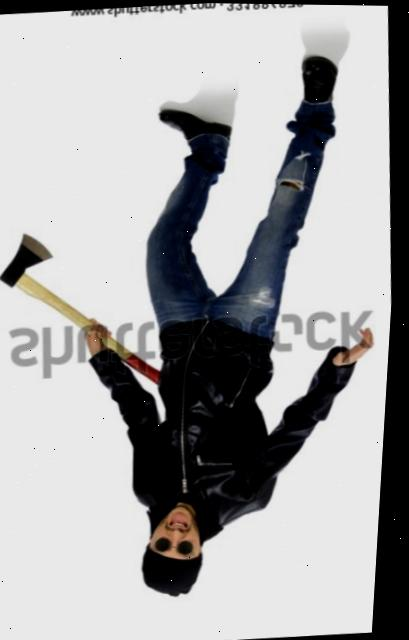baseball bat: (0, 221, 178, 396)
